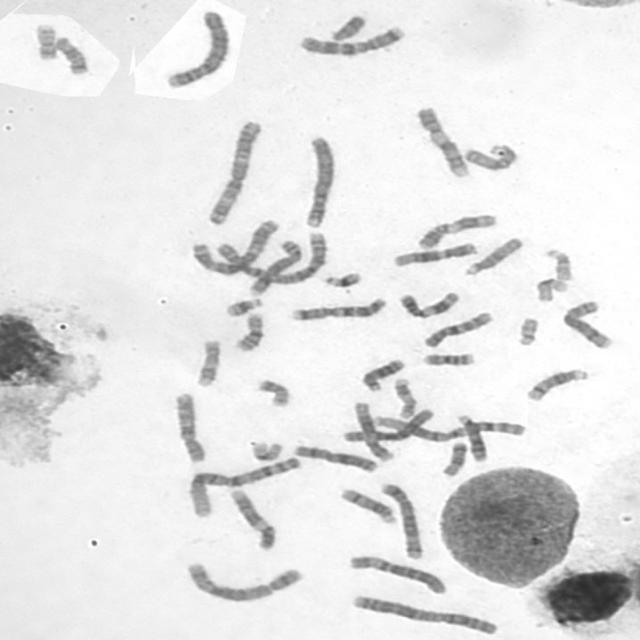A1: (184, 455, 304, 519), (354, 412, 529, 442)
A2: (345, 590, 501, 636), (215, 231, 330, 286)
A3: (202, 117, 264, 226), (186, 216, 280, 276)
B4: (161, 7, 232, 90), (298, 132, 338, 228)
B5: (181, 559, 304, 603), (376, 479, 426, 561)
C10: (418, 308, 496, 350), (169, 389, 208, 464)
C11: (412, 210, 499, 251), (394, 288, 461, 320)
C12: (350, 398, 396, 463), (389, 239, 479, 268)
C6: (344, 551, 448, 596), (338, 406, 437, 444)
C7: (294, 22, 408, 58), (286, 294, 388, 322)
C8: (244, 236, 304, 296), (557, 298, 615, 350)
C9: (411, 103, 472, 179), (224, 485, 278, 552)
D13: (451, 410, 490, 463), (358, 355, 407, 393)
D14: (522, 365, 591, 403), (335, 485, 398, 525)
D15: (460, 234, 525, 277), (459, 140, 519, 172)
E16: (230, 309, 266, 353), (418, 350, 477, 367)
E17: (190, 336, 222, 388), (389, 374, 418, 420)
E18: (50, 33, 90, 76), (437, 438, 468, 478)
F19: (531, 275, 570, 304), (246, 438, 284, 462)
F20: (252, 376, 291, 409), (29, 20, 60, 61)
G21: (221, 294, 265, 318), (319, 269, 363, 289)
G22: (540, 245, 574, 283), (513, 313, 541, 347)
X: (288, 442, 379, 474)
Y: (326, 11, 368, 43)
